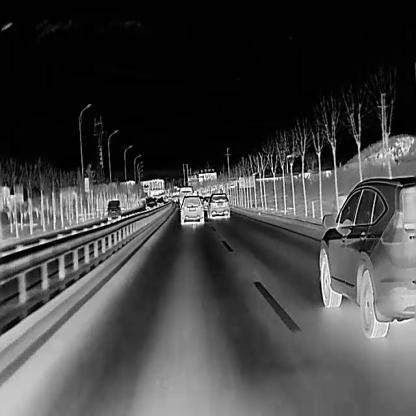car: (318, 171, 416, 338), (180, 193, 204, 224), (206, 192, 230, 218), (178, 185, 192, 208), (106, 199, 120, 219), (145, 197, 156, 210), (156, 200, 163, 209)
